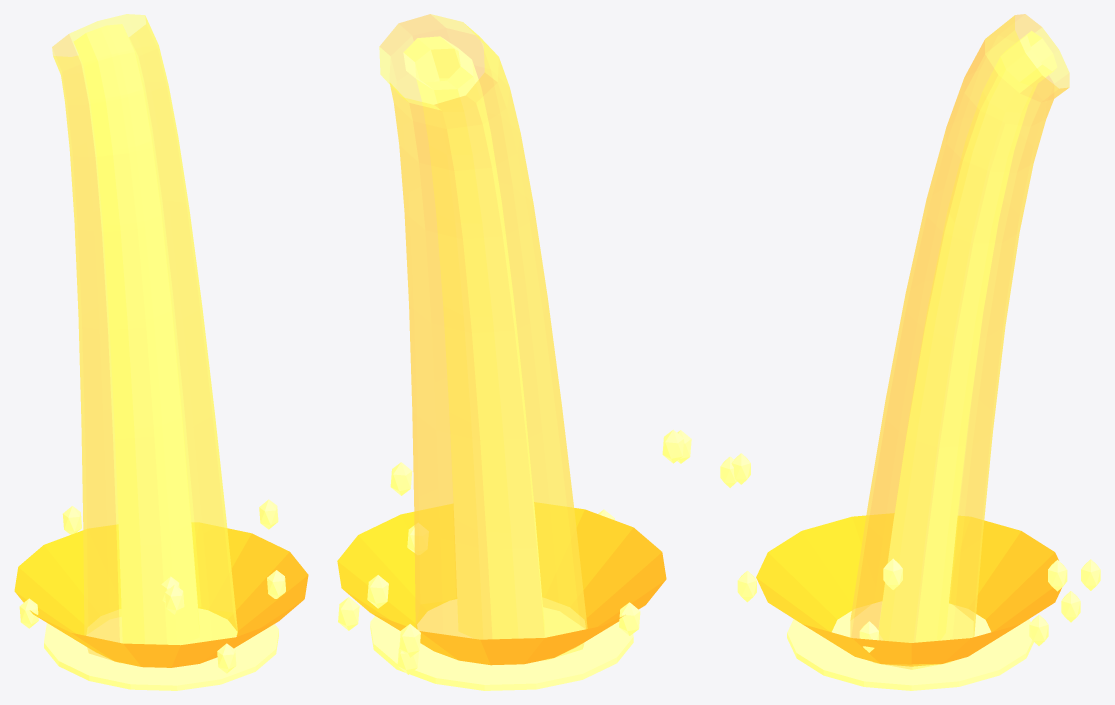
The model's file is molten-stream.glb.
3 views of the same model, side by side, from view 1: azimuth 30°, elevation 25°; view 2: azimuth 150°, elevation 25°; view 3: azimuth 270°, elevation 25° (orthographic). The views are drawn at different scales.
Visible parts, largest first — view 1: molten-stream__molten-stream__molten-glow, molten-stream__molten-stream__molten-core, molten-stream__molten-stream__molten; view 2: molten-stream__molten-stream__molten-glow, molten-stream__molten-stream__molten-core, molten-stream__molten-stream__molten; view 3: molten-stream__molten-stream__molten-glow, molten-stream__molten-stream__molten-core, molten-stream__molten-stream__molten.
Part boxes in pixels (<box>): molten-stream__molten-stream__molten-glow: <box>52,14,237,663</box>; molten-stream__molten-stream__molten-core: <box>19,24,285,690</box>; molten-stream__molten-stream__molten: <box>14,522,308,667</box>; molten-stream__molten-stream__molten-glow: <box>379,14,587,660</box>; molten-stream__molten-stream__molten-core: <box>338,36,691,690</box>; molten-stream__molten-stream__molten: <box>337,502,666,665</box>; molten-stream__molten-stream__molten-glow: <box>850,14,1069,669</box>; molten-stream__molten-stream__molten-core: <box>720,30,1100,690</box>; molten-stream__molten-stream__molten: <box>756,513,1061,666</box>.
Size of the model in its own units: 0.6073 by 1.32 by 0.7333.
